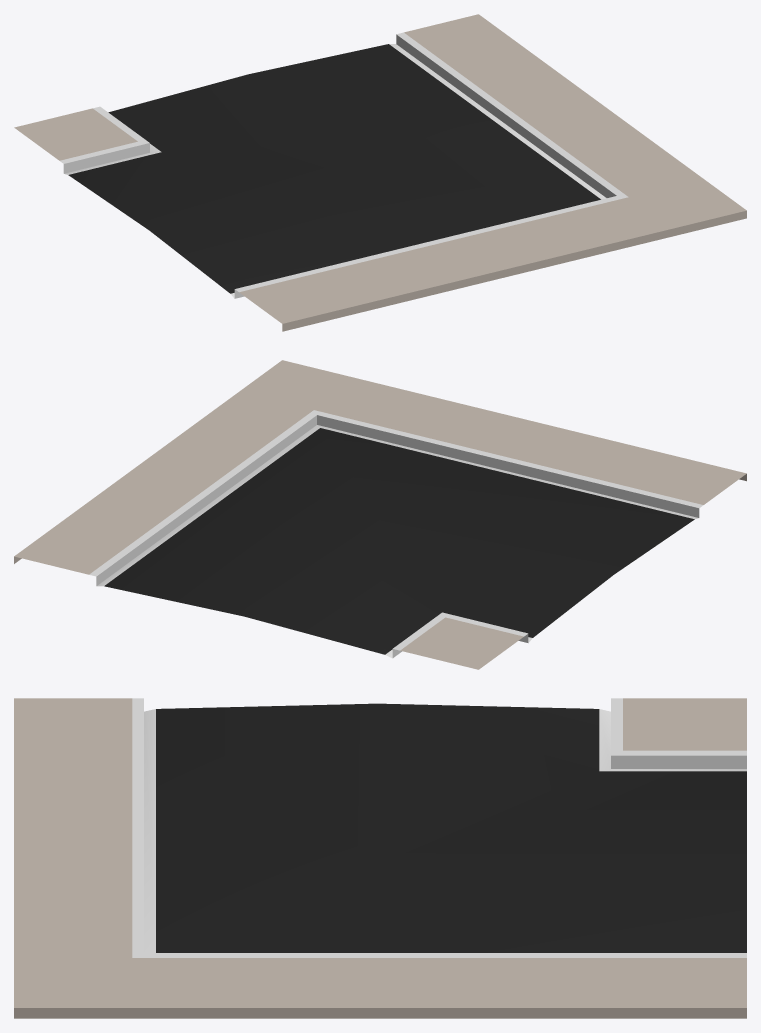
The model's file is Curva_3_Faixas.fbx.
3 views of the same model, one above another, from view 1: azimuth 30°, elevation 25°; view 2: azimuth 150°, elevation 25°; view 3: azimuth 270°, elevation 25° (orthographic). The views are drawn at different scales.
Visible parts, largest first — view 1: Curva_3_Faixas; view 2: Curva_3_Faixas; view 3: Curva_3_Faixas.
Boxes of the visible parts, x1,y1,x2,y2 form: Curva_3_Faixas: (14,14,746,331); Curva_3_Faixas: (14,360,746,669); Curva_3_Faixas: (14,698,746,1018).
Size of the model in its own units: 1240 by 25 by 1240.
